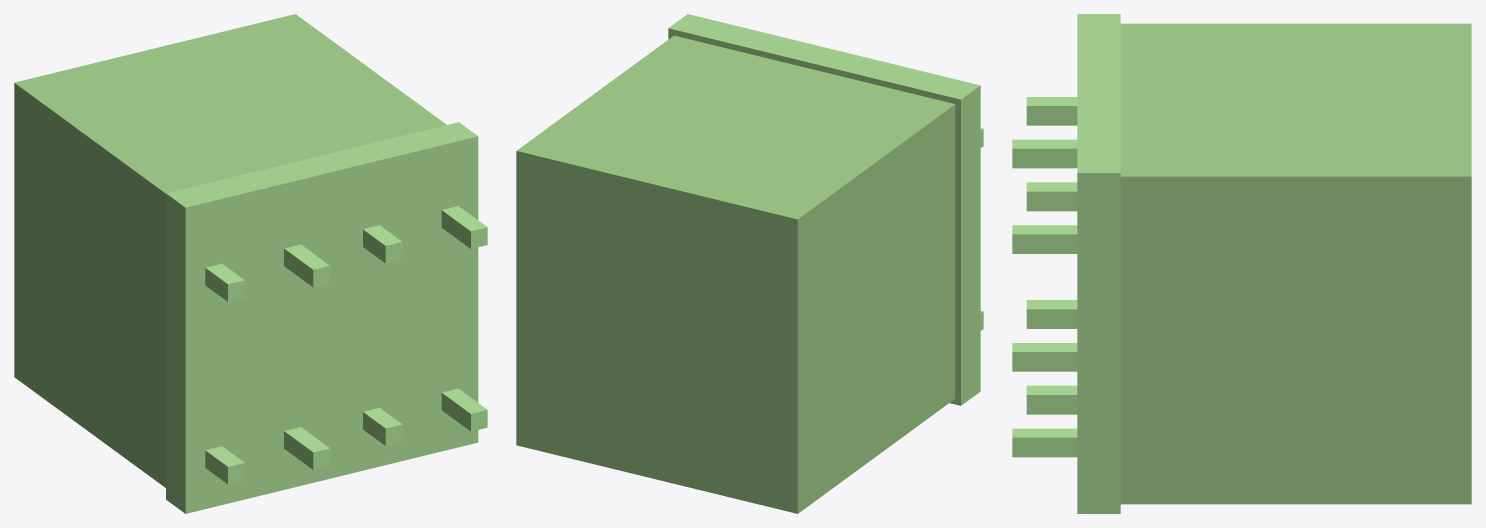
File: 2_vale_turf.glb
The picture shows the model from 3 angles, left to right: view 1: azimuth 30°, elevation 25°; view 2: azimuth 150°, elevation 25°; view 3: azimuth 270°, elevation 25°; orthographic projection. The views are drawn at different scales.
Visible parts, largest first — view 1: TopLayer, Core, Grass_1, Grass_5, Grass_3, Grass_7, Grass_4, Grass_6, Grass_0, Grass_2; view 2: Core, TopLayer; view 3: Core, TopLayer, Grass_3, Grass_5, Grass_1, Grass_7, Grass_2, Grass_6, Grass_0, Grass_4.
Part boxes in pixels (bbox=[...]): TopLayer: bbox=[166, 122, 478, 513]; Core: bbox=[14, 14, 446, 487]; Grass_1: bbox=[284, 427, 330, 469]; Grass_5: bbox=[284, 244, 330, 287]; Grass_3: bbox=[441, 388, 487, 431]; Grass_7: bbox=[441, 206, 487, 248]; Grass_4: bbox=[205, 263, 244, 301]; Grass_6: bbox=[363, 225, 402, 263]; Grass_0: bbox=[205, 446, 244, 484]; Grass_2: bbox=[363, 407, 402, 445]; Core: bbox=[516, 35, 955, 513]; TopLayer: bbox=[668, 14, 980, 405]; Core: bbox=[1120, 23, 1471, 504]; TopLayer: bbox=[1077, 14, 1120, 513]; Grass_3: bbox=[1012, 428, 1077, 457]; Grass_5: bbox=[1012, 139, 1077, 168]; Grass_1: bbox=[1012, 343, 1077, 371]; Grass_7: bbox=[1012, 225, 1077, 253]; Grass_2: bbox=[1026, 385, 1077, 414]; Grass_6: bbox=[1026, 182, 1077, 211]; Grass_0: bbox=[1026, 300, 1077, 328]; Grass_4: bbox=[1026, 97, 1077, 125].
Bounding box in the file's own units: 1.04 × 1.04 × 1.27.
